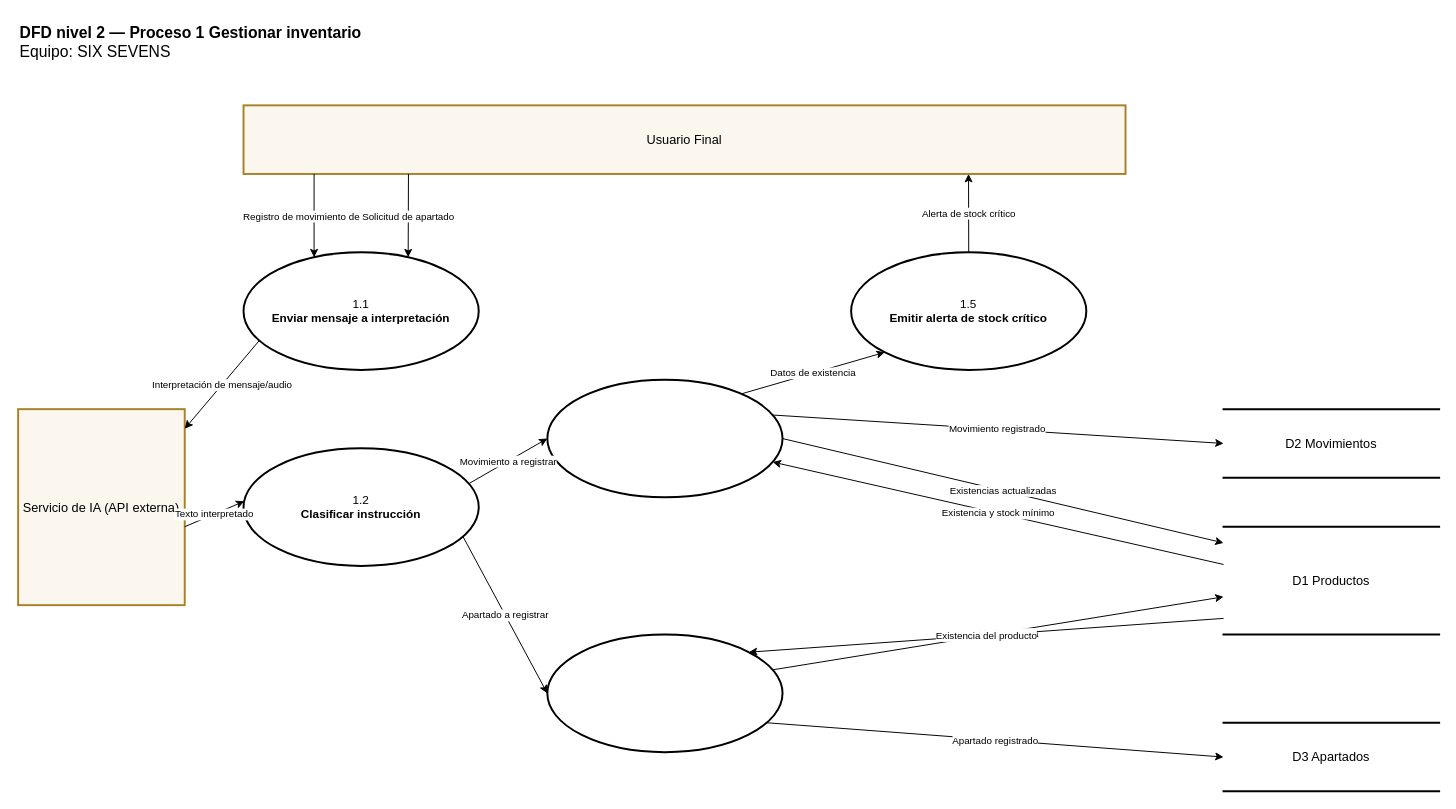
The diagram is 1456 pixels wide and 809 high, and some of its shapes have lost their labels. The centre of each missing label's shape, as x and y in pixels:
"1.3 Actualizar existencias" goes at pixel 664 438.
"1.4 Registrar apartado" goes at pixel 664 693.
